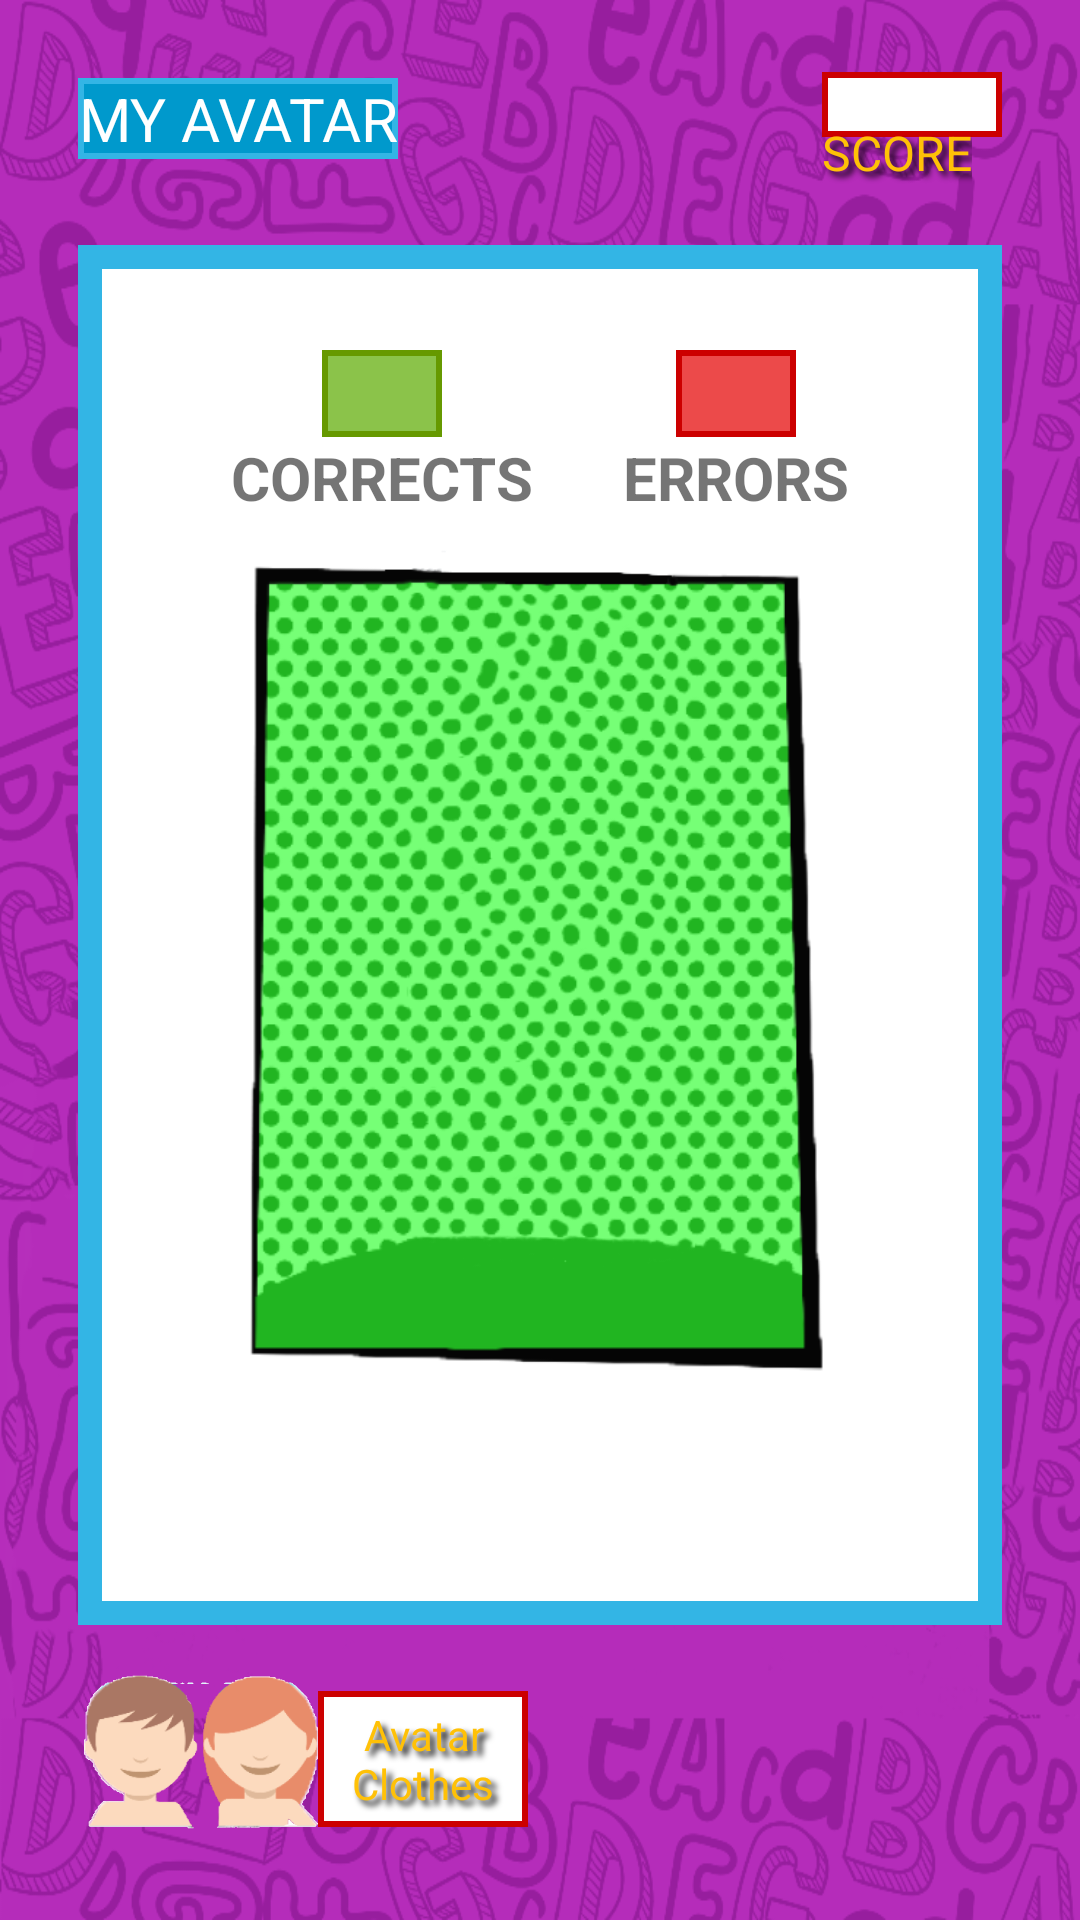

Point at icon controls on the screen. Image size 1080 × 1920, points as [x,y].
avatars image: [198,1753]
